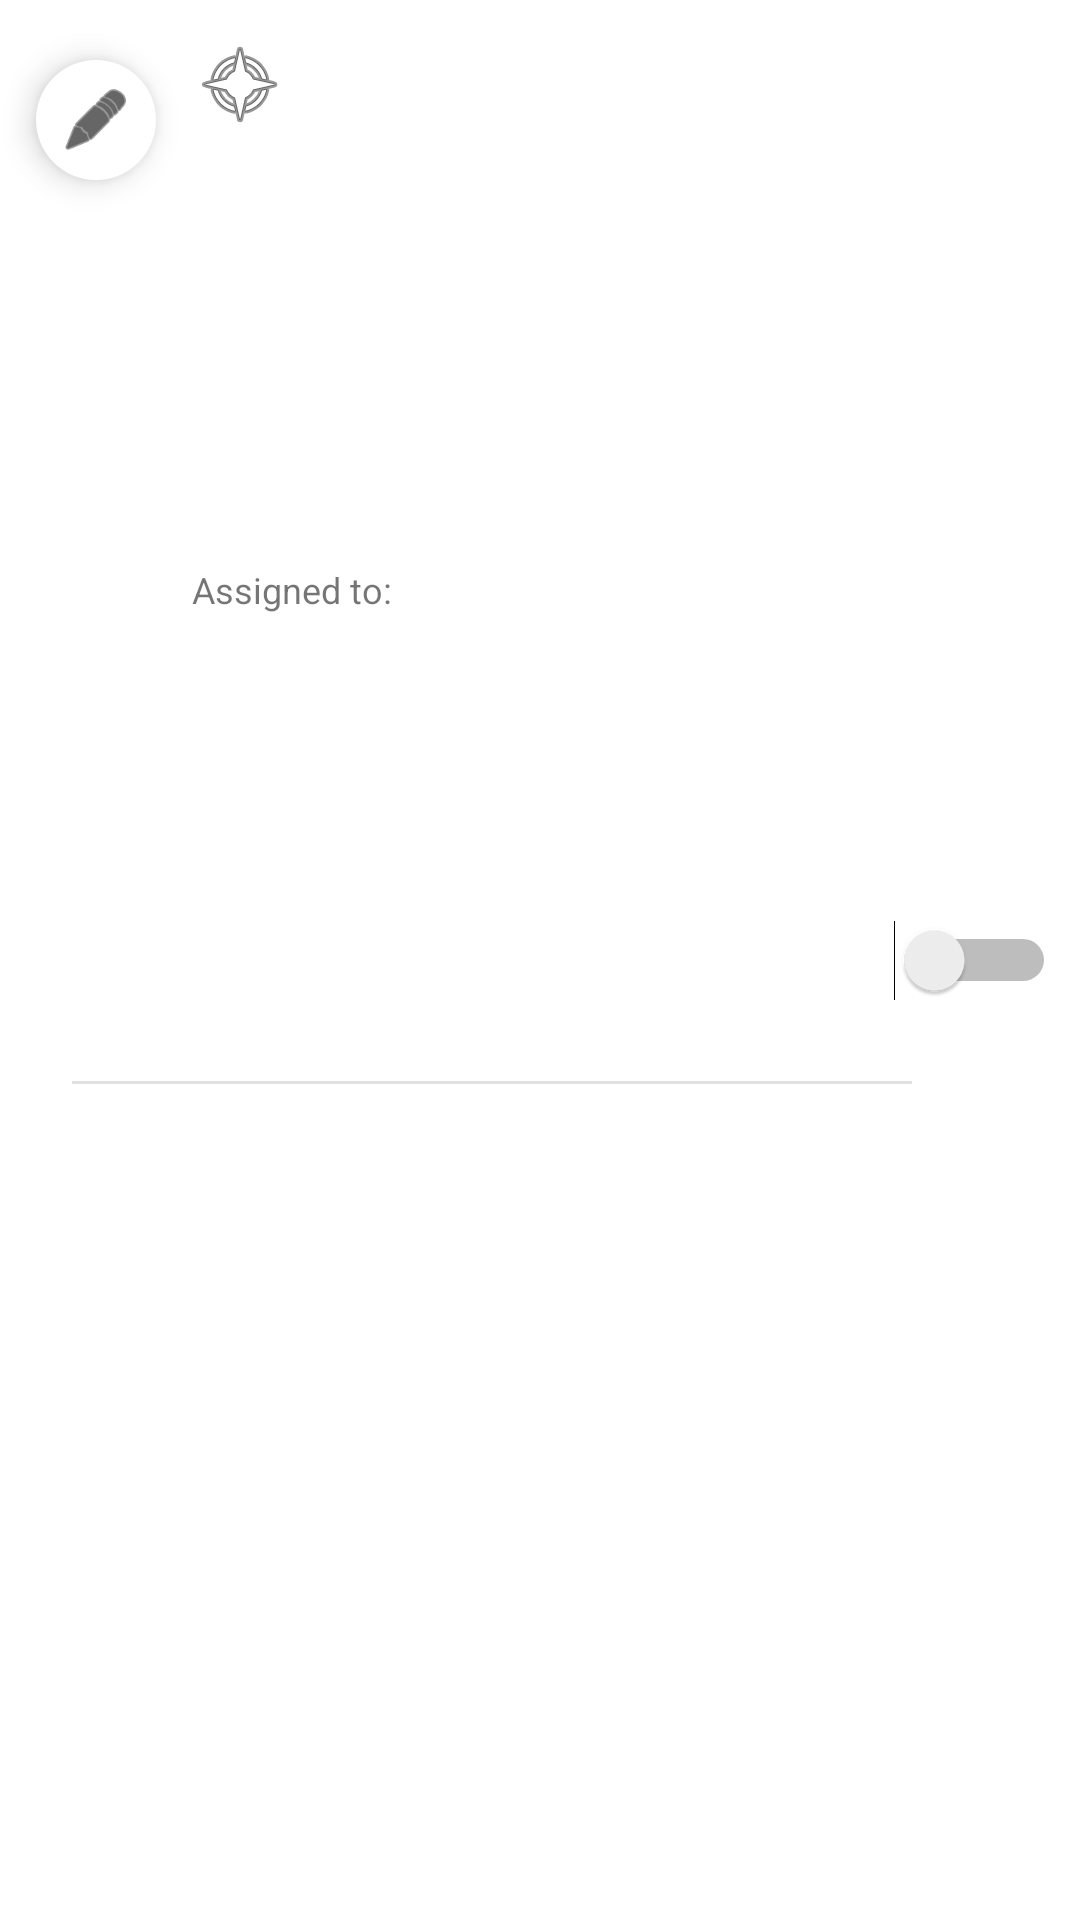

Named icons in this screenshot (1080 x 1920) and their centers, point (x, y):
compass: point (240, 84)
edit: point (80, 125)
